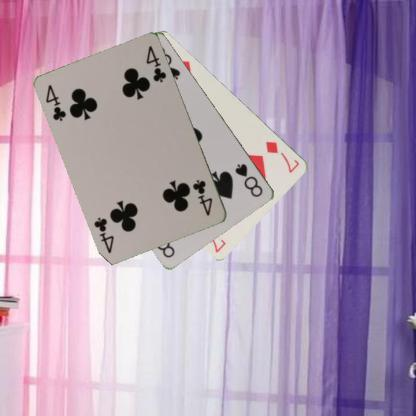4c: (43, 82, 68, 123), (190, 177, 214, 217)
7d: (263, 138, 301, 175)
8s: (232, 160, 265, 198)
